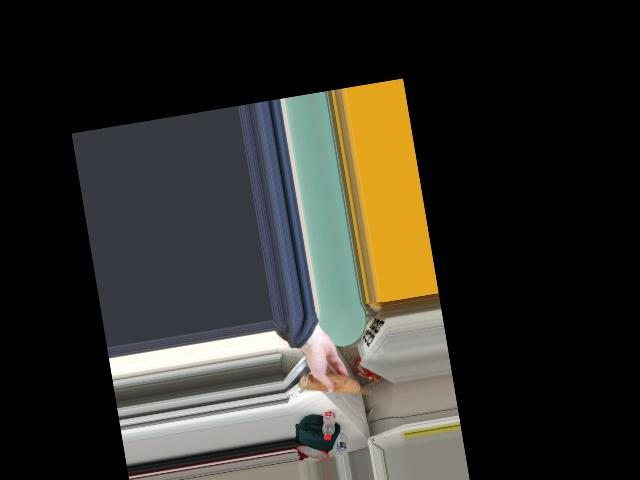sweet_potato: (301, 362, 369, 407)
